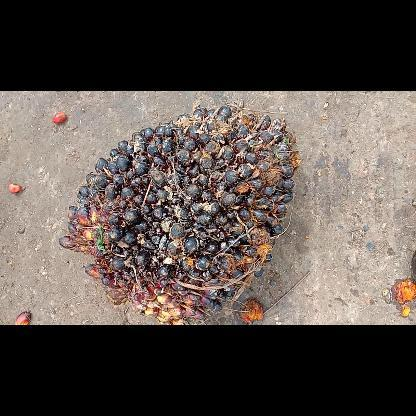TBS mentah: (56, 102, 302, 324)
